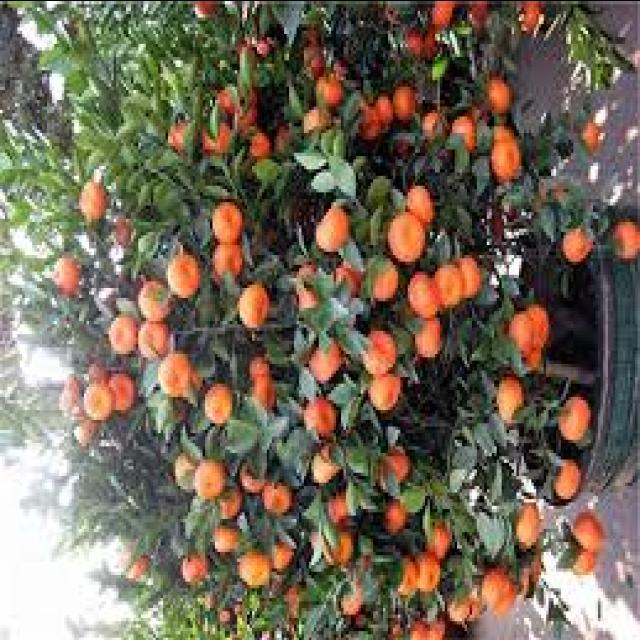orange: (152, 336, 202, 406)
